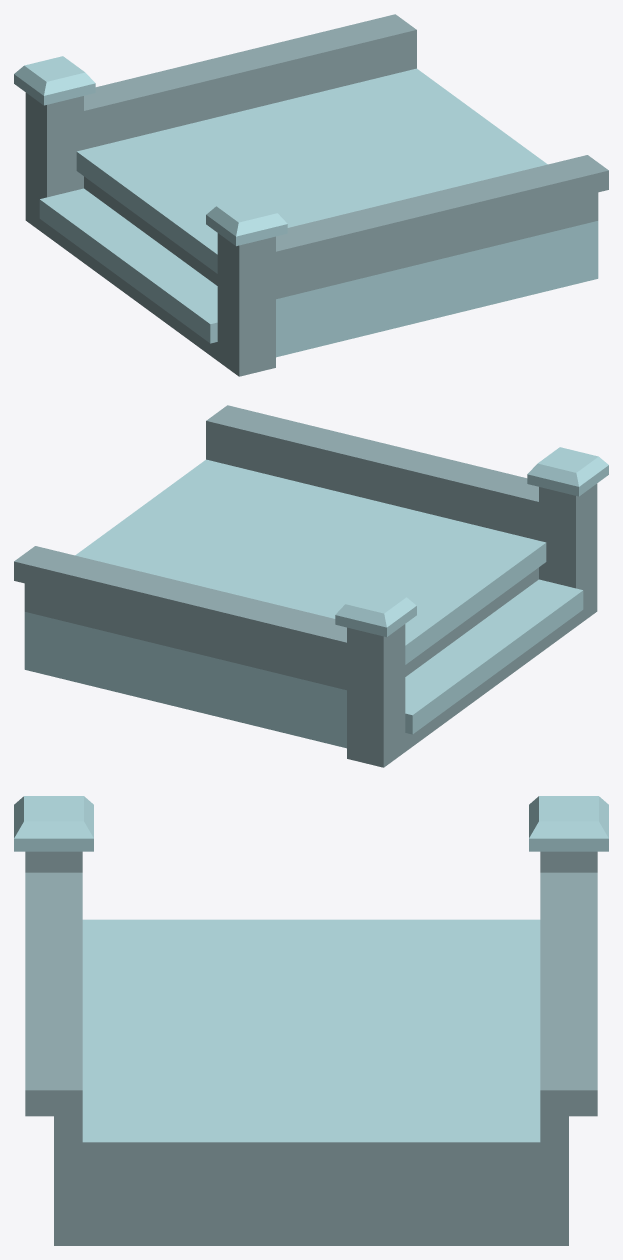
3 views of the same model, one above another, from view 1: azimuth 30°, elevation 25°; view 2: azimuth 150°, elevation 25°; view 3: azimuth 270°, elevation 25° (orthographic). The views are drawn at different scales.
Visible parts, largest first — view 1: bridge_side_stone; view 2: bridge_side_stone; view 3: bridge_side_stone.
Part boxes in pixels (box(x1,y1,x2,y2)): bridge_side_stone: box(14, 14, 608, 376); bridge_side_stone: box(14, 405, 608, 767); bridge_side_stone: box(14, 796, 608, 1245).
Size of the model in its own units: 1.02 by 0.4 by 1.04.
